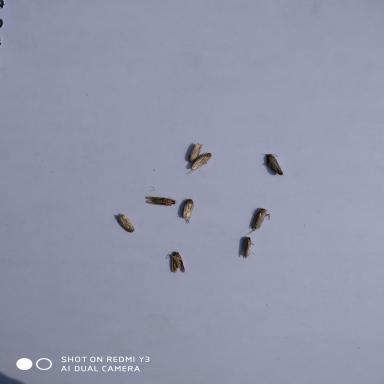pbw: (185, 152, 213, 176), (261, 152, 285, 176), (178, 197, 198, 225), (236, 236, 257, 262), (112, 212, 136, 234), (166, 249, 186, 275), (183, 141, 205, 164), (144, 194, 178, 208)
